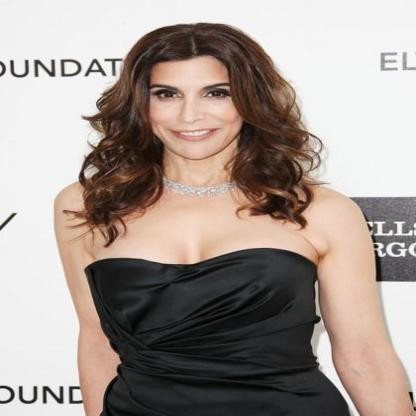long-hair: (77, 162, 329, 205)
